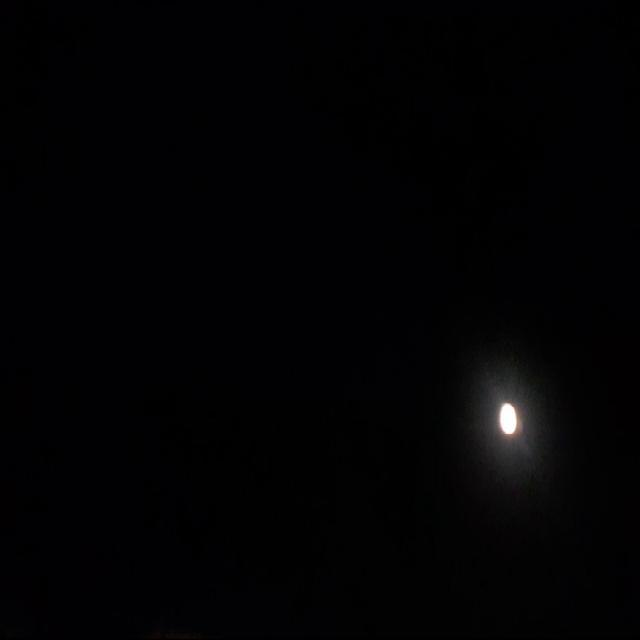moon: (487, 367, 510, 400)
